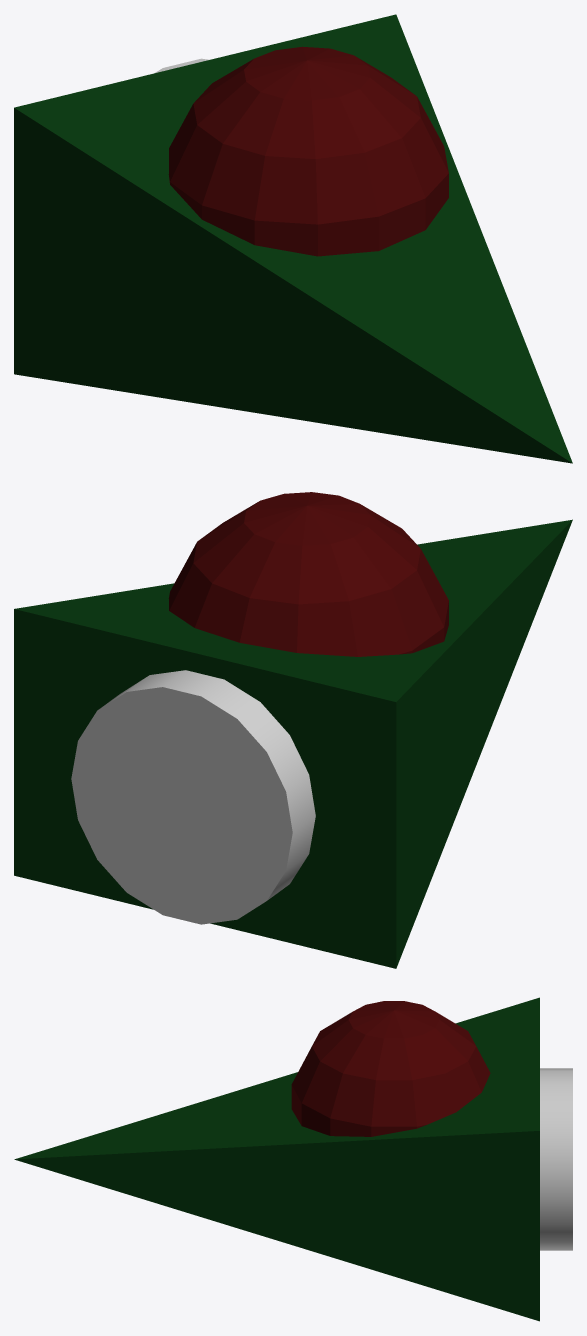
File: ship.obj
3 views of the same model, one above another, from view 1: azimuth 30°, elevation 25°; view 2: azimuth 150°, elevation 25°; view 3: azimuth 270°, elevation 25° (orthographic). The views are drawn at different scales.
Parts seen in each view (by area): view 1: Cylinder001; view 2: Cylinder001; view 3: Cylinder001.
Part boxes in pixels (x1,y1,x2,y2): Cylinder001: [14, 14, 572, 463]; Cylinder001: [14, 492, 572, 968]; Cylinder001: [14, 997, 572, 1321].
Size of the model in its own units: 3 by 2.56 by 5.31.
